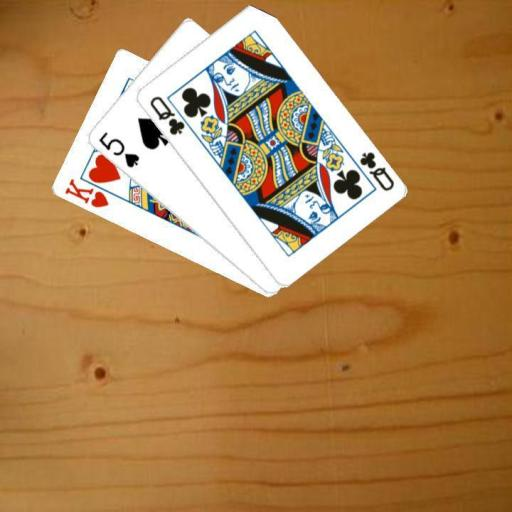card-corner: (94, 129, 140, 170), (356, 148, 396, 193), (146, 92, 186, 136), (61, 176, 110, 210)
